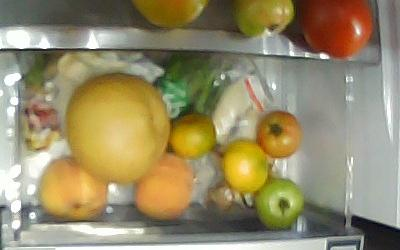peach: (40, 157, 108, 222), (134, 153, 194, 223)
pear: (67, 72, 171, 183)
tangerine: (221, 139, 268, 193), (169, 112, 216, 160)
tomato: (255, 177, 305, 231), (256, 111, 302, 158)
